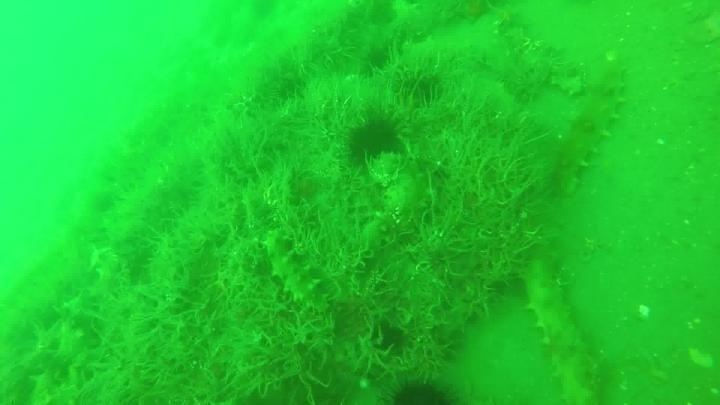echinus: (342, 110, 407, 166), (383, 375, 462, 405), (397, 73, 443, 107), (367, 317, 407, 354), (353, 46, 399, 76)
holothurian: (19, 248, 127, 403), (513, 253, 599, 403), (548, 63, 631, 199), (352, 167, 442, 259), (258, 226, 331, 312)
